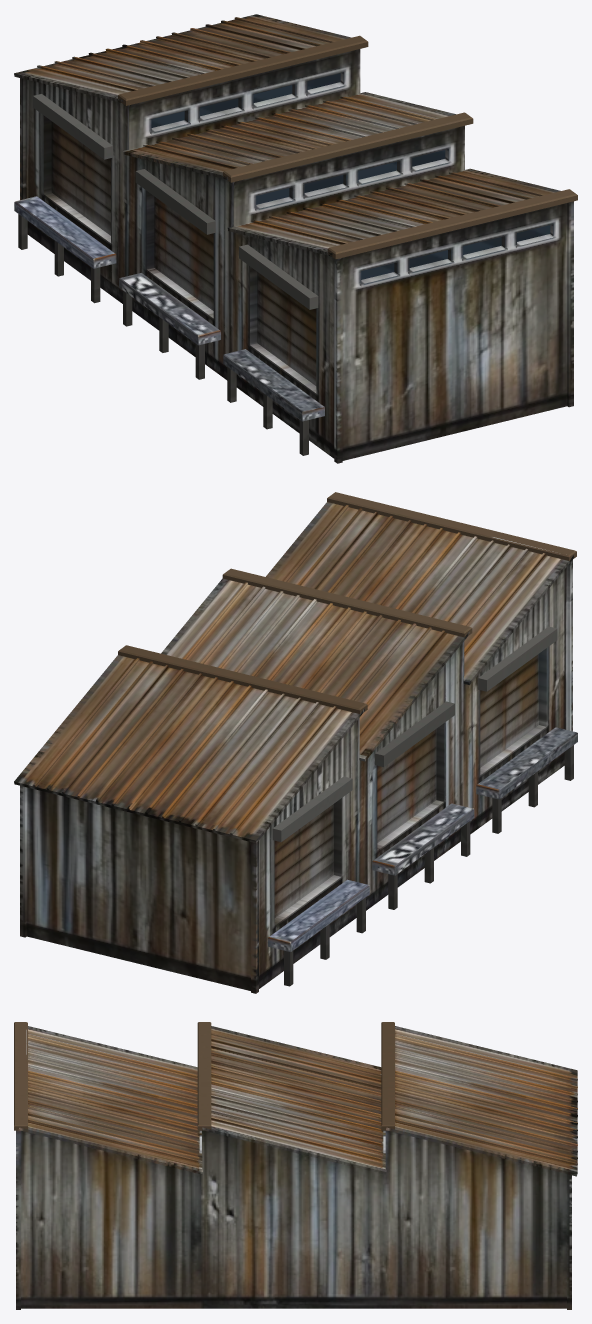
Rendered from civstorageb_cad.glb.
The picture shows the model from 3 angles, top to bottom: view 1: azimuth 30°, elevation 25°; view 2: azimuth 150°, elevation 25°; view 3: azimuth 270°, elevation 25°; orthographic projection. The views are drawn at different scales.
Parts seen in each view (by area): view 1: Box01; view 2: Box01; view 3: Box01.
Part boxes in pixels (left/top/right/bottom): Box01: left=14, top=14, right=577, bottom=463; Box01: left=14, top=492, right=577, bottom=993; Box01: left=14, top=1022, right=577, bottom=1309.
Size of the model in its own units: 7 by 5.47 by 15.04.
Materials: 1 (1 with a texture image).
